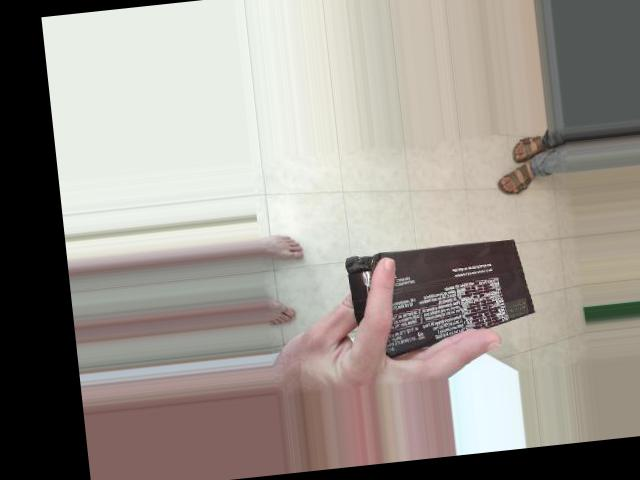chocolate: (361, 138, 485, 339)
